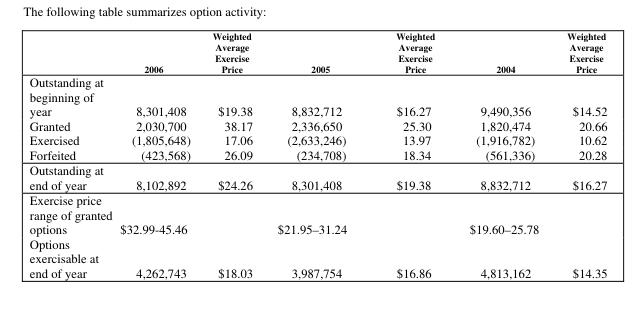table: (28, 29, 606, 280)
table column: (264, 29, 370, 280), (451, 29, 552, 280), (28, 29, 115, 280), (115, 29, 200, 280), (370, 29, 451, 280), (200, 29, 264, 280), (552, 29, 606, 280)
table column header: (28, 29, 606, 73)
table row: (28, 235, 606, 280), (28, 29, 606, 73), (28, 73, 606, 117), (28, 191, 606, 235), (28, 161, 606, 191), (28, 117, 606, 132), (28, 146, 606, 161), (28, 132, 606, 146)
